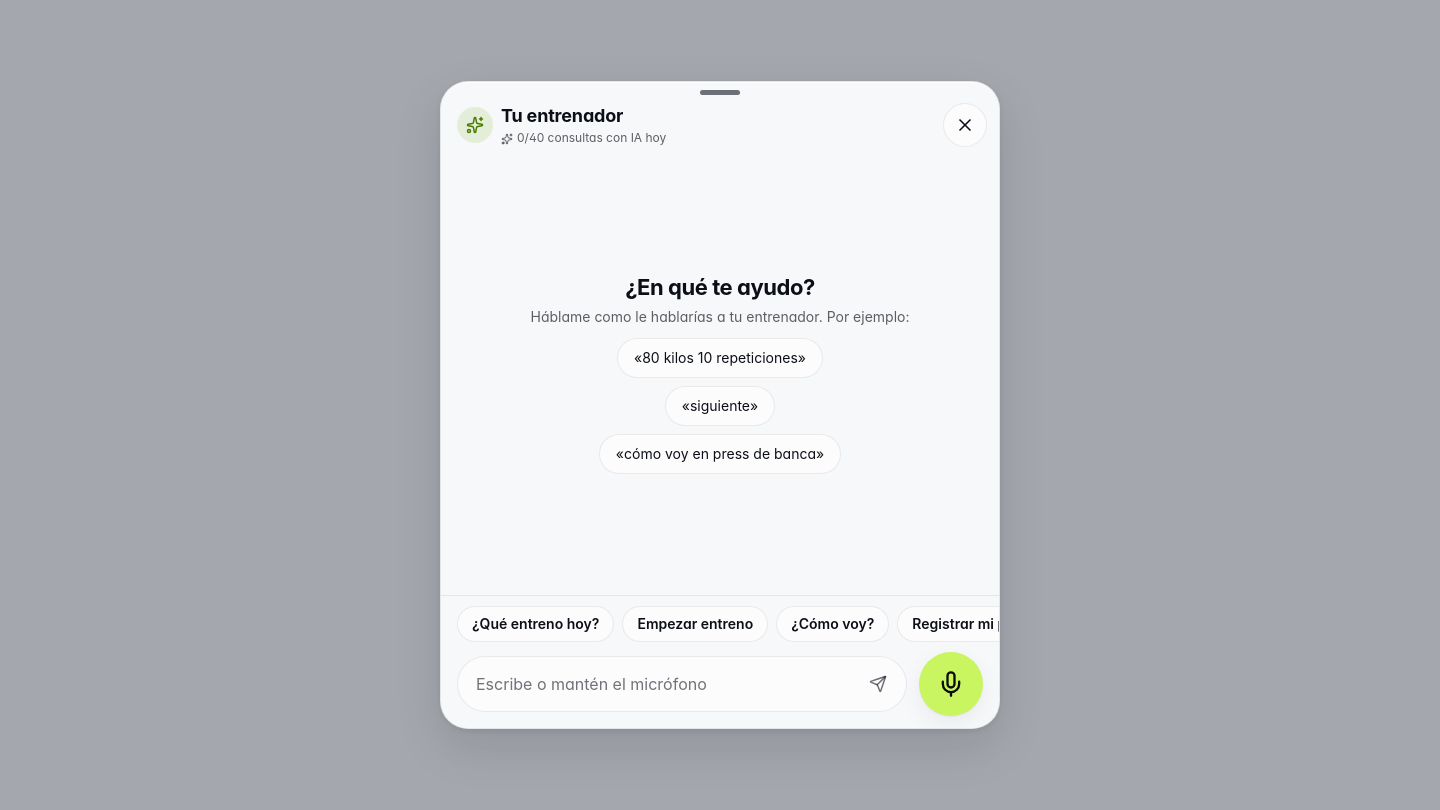
Scenario: AssistantSheet › suggestion chips follow the context and prefill-only chips fill the input
This screenshot has width=1440, height=810.
Check: the button "¿Qué entreno hoy?" is shown, box [457,606,614,642]
Click the button "Registrar mi peso" at (972, 624), box [897,606,1046,642]
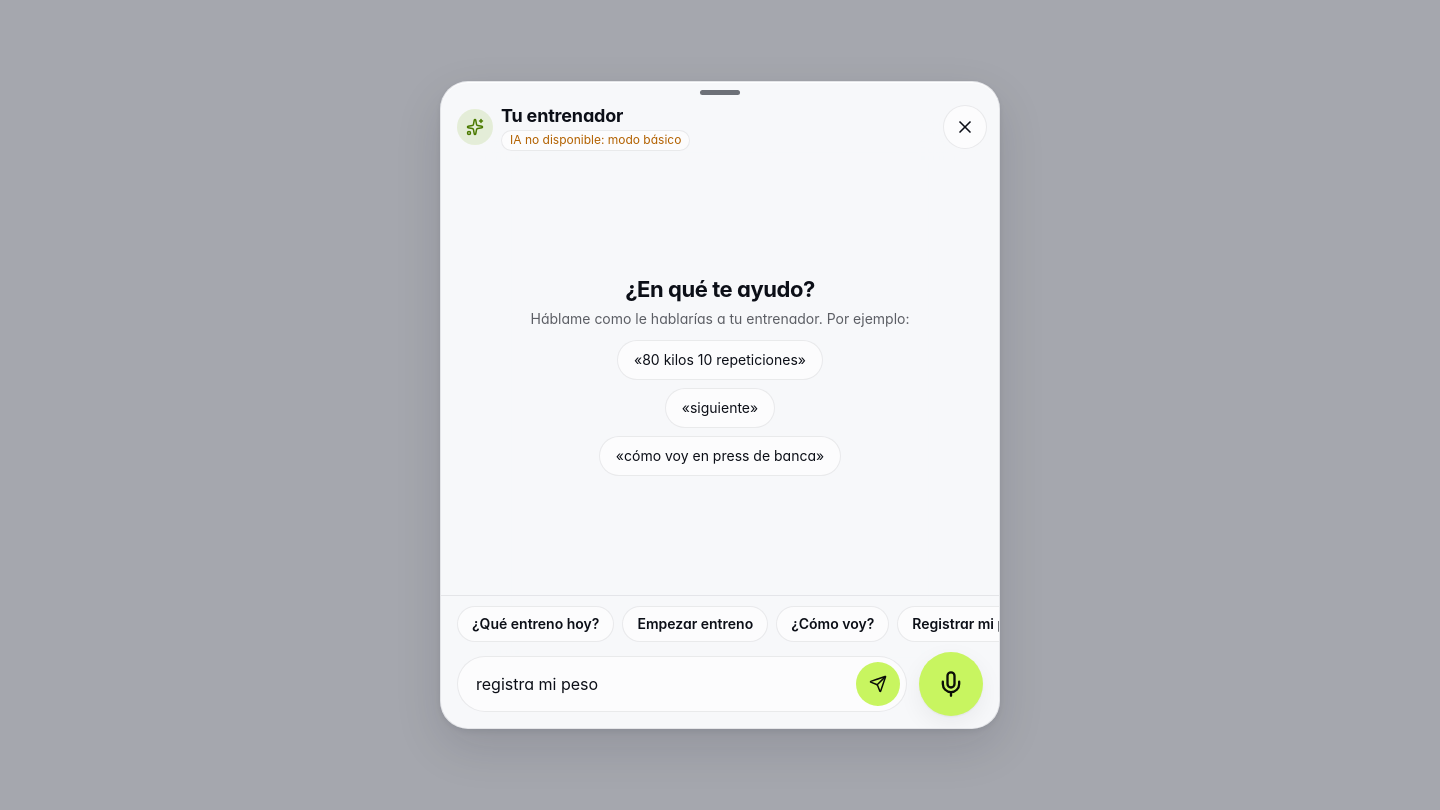
Check: the field named "Mensaje para el asistente" holds "registra mi peso ", box [474,657,852,711]
